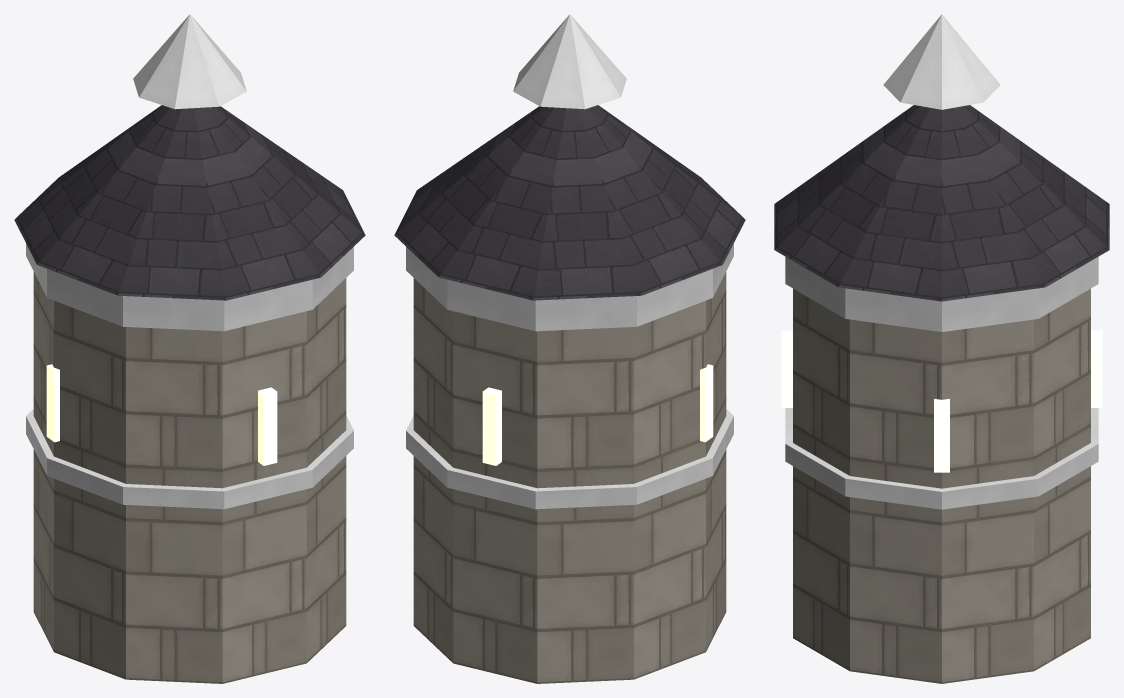
Rendered from tower.wallet.t6.glb.
3 renders of one model, left to right at view 1: azimuth 30°, elevation 25°; view 2: azimuth 150°, elevation 25°; view 3: azimuth 270°, elevation 25°, orthographic.
Parts seen in each view (by area): view 1: castle.tower.wallet.t6; view 2: castle.tower.wallet.t6; view 3: castle.tower.wallet.t6.
Part boxes in pixels (x1,y1,x2,y2): castle.tower.wallet.t6: [14, 14, 365, 683]; castle.tower.wallet.t6: [394, 14, 745, 683]; castle.tower.wallet.t6: [774, 14, 1109, 683].
Size of the model in its own units: 1.8 by 3.4 by 1.71.
4 materials, 3 textured.
